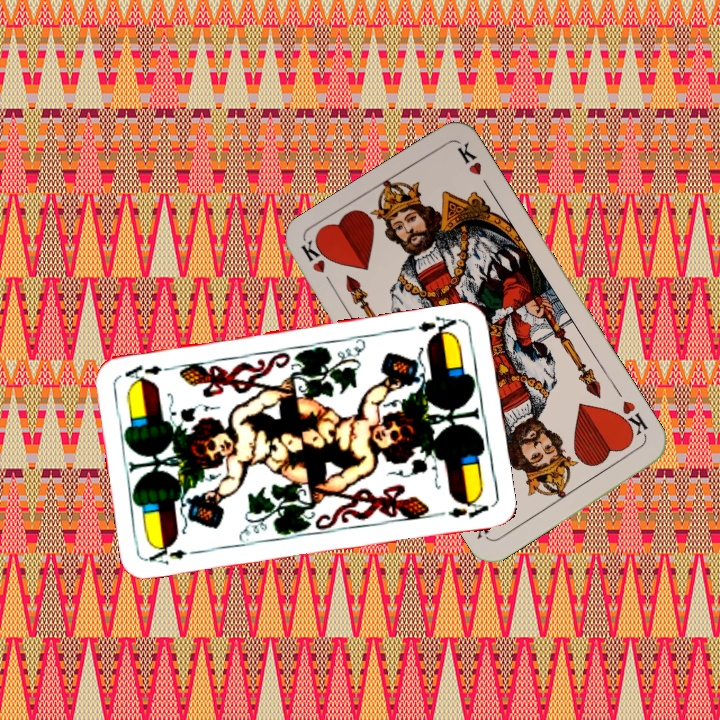EA: (404, 312, 463, 341), (145, 540, 204, 567)
HK: (297, 237, 339, 293), (612, 396, 651, 442)
